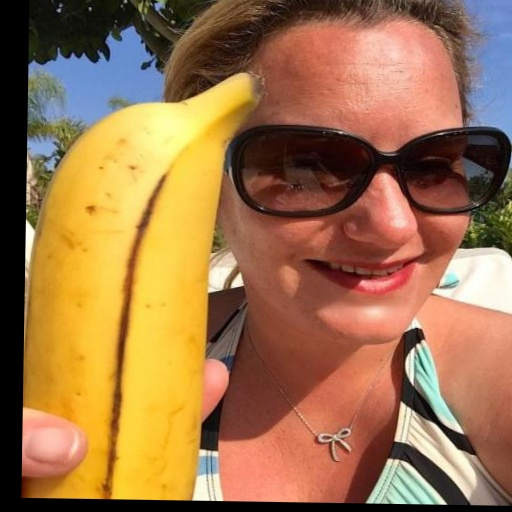fruit: (22, 74, 260, 500)
